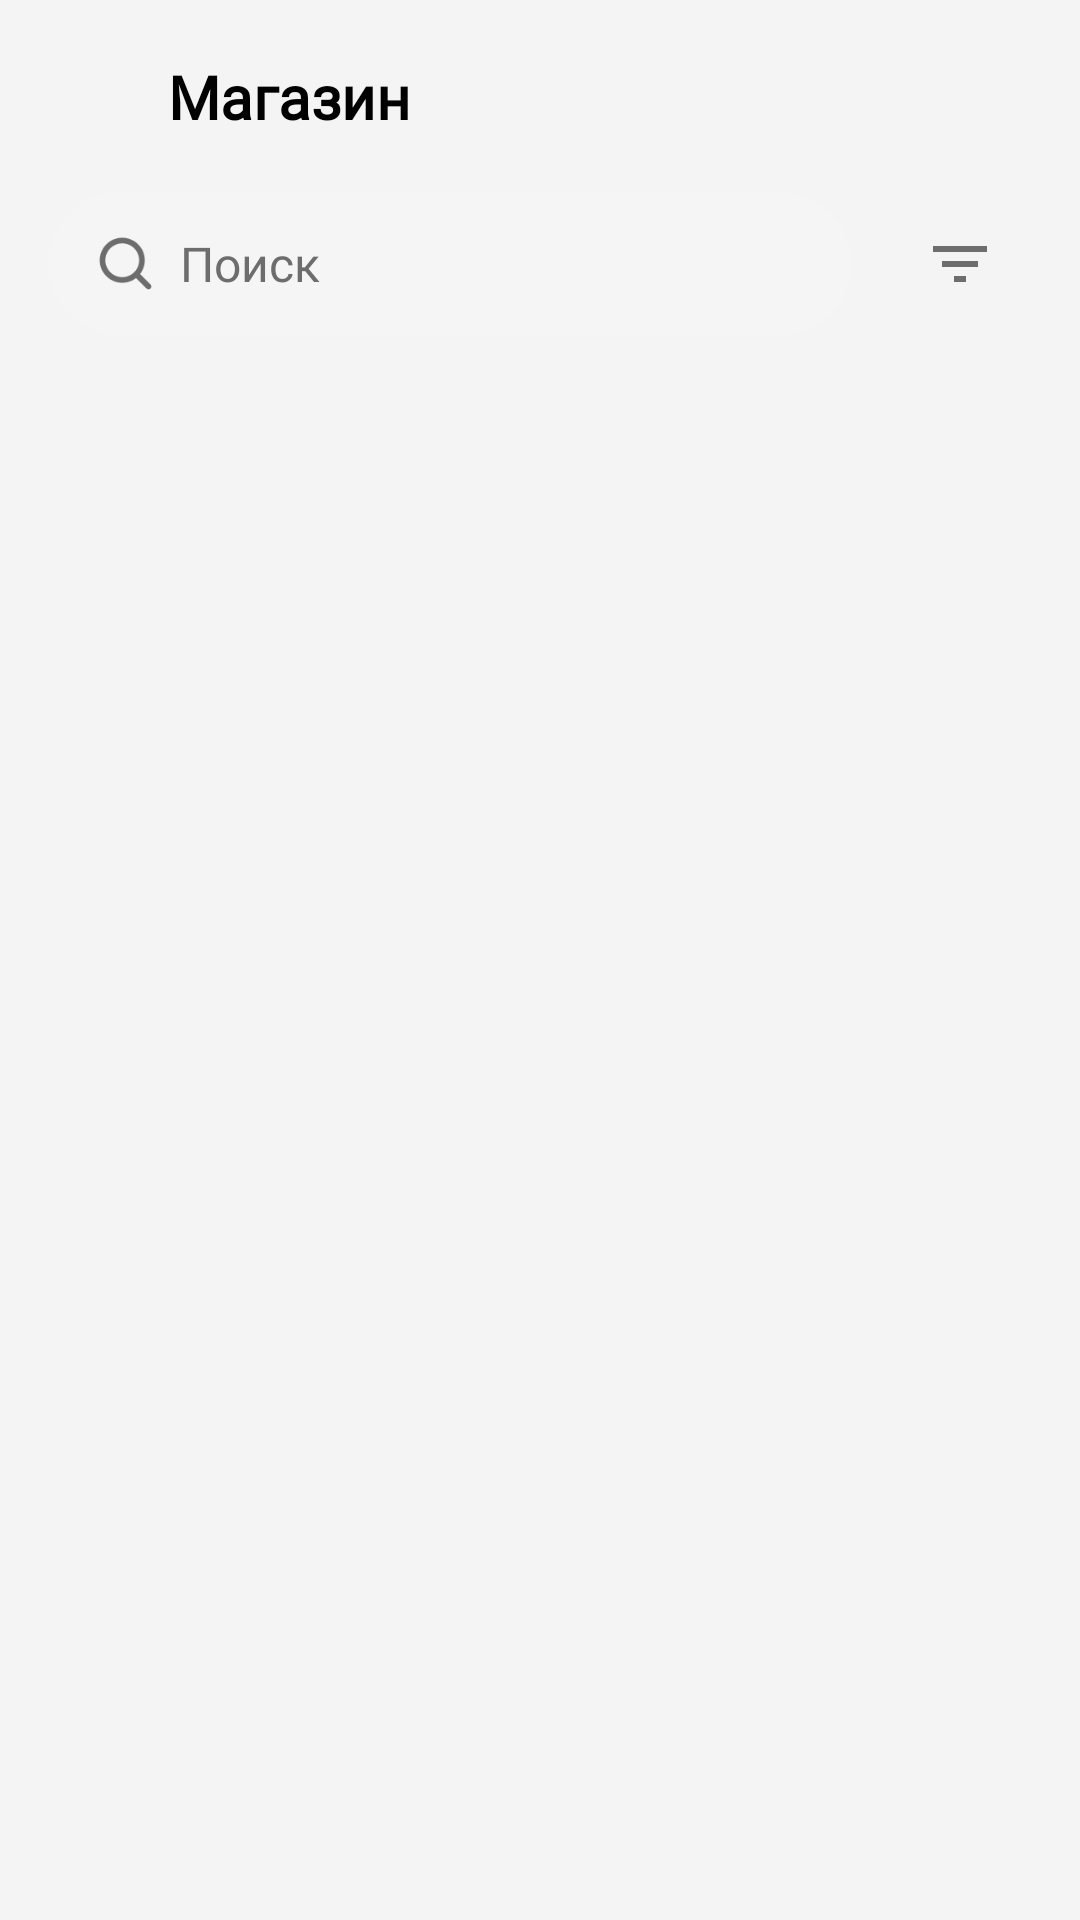

Where to tap for icons on this 1080 x 1920 app screen, as (x,y):
search: (125,263)
Фильтры: (960,264)
